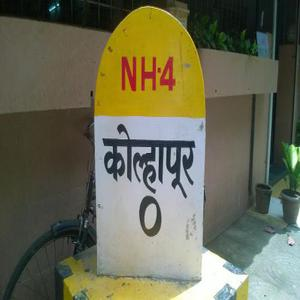kmstone: (83, 1, 209, 286)
